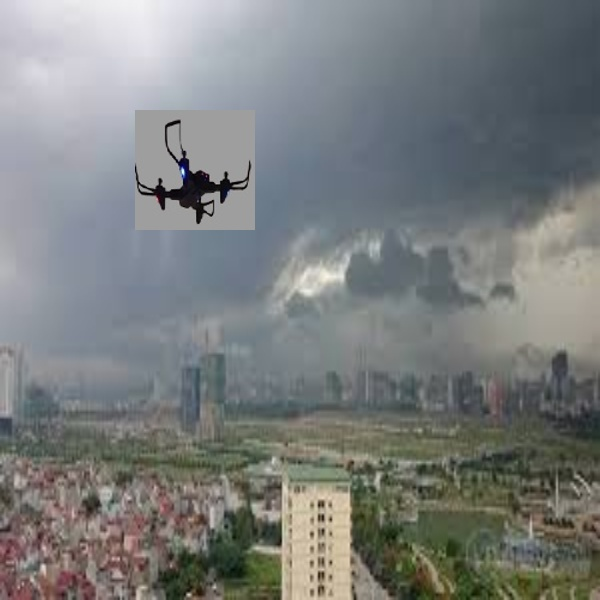drone: (131, 113, 253, 226)
